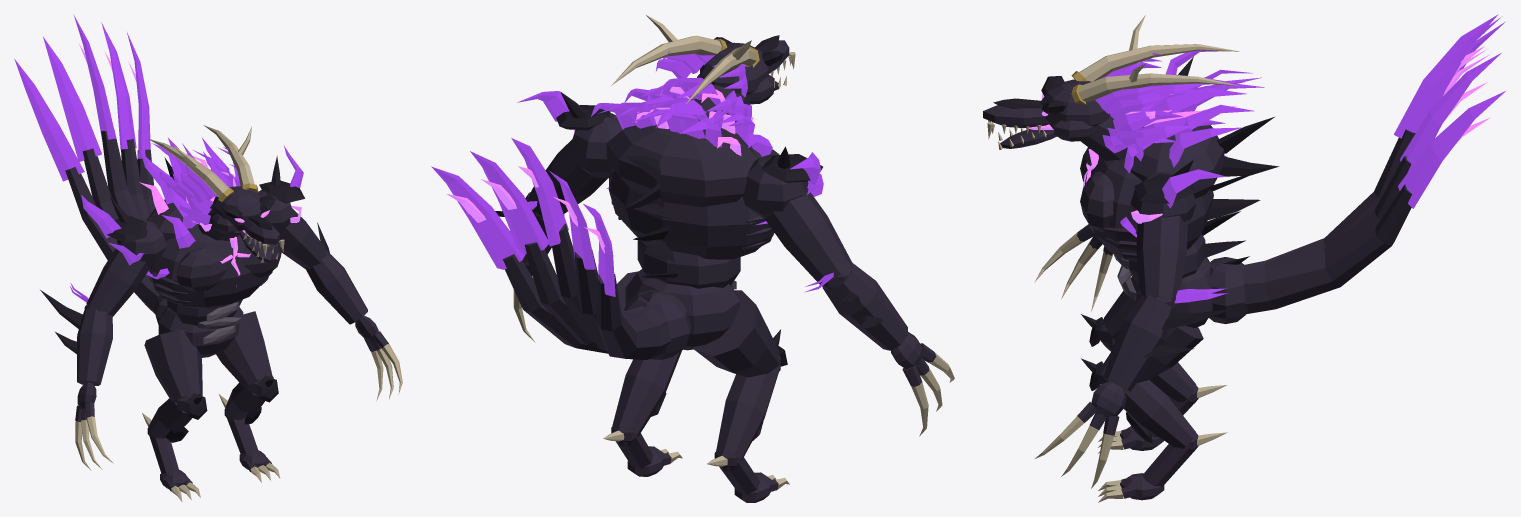
Rendered from shadow.glb.
3 views of the same model, side by side, from view 1: azimuth 30°, elevation 25°; view 2: azimuth 150°, elevation 25°; view 3: azimuth 270°, elevation 25° (orthographic). The views are drawn at different scales.
Parts seen in each view (by area): view 1: ShadowMonster_Tails, ShadowMonster_Body, ShadowMonster_Arm_R, ShadowMonster_Leg_R, ShadowMonster_Leg_L, ShadowMonster_Mane, ShadowMonster_Arm_L, ShadowMonster_Head, ShadowMonster_Horns, ShadowMonster_Hand_R, ShadowMonster_Hand_L; view 2: ShadowMonster_Body, ShadowMonster_Tails, ShadowMonster_Arm_R, ShadowMonster_Leg_R, ShadowMonster_Mane, ShadowMonster_Leg_L, ShadowMonster_Arm_L, ShadowMonster_Head, ShadowMonster_Horns, ShadowMonster_Hand_R; view 3: ShadowMonster_Tails, ShadowMonster_Body, ShadowMonster_Arm_L, ShadowMonster_Mane, ShadowMonster_Leg_L, ShadowMonster_Head, ShadowMonster_Horns, ShadowMonster_Leg_R, ShadowMonster_Hand_L, ShadowMonster_Hand_R.
Boxes of the visible parts, left/top/right/bottom form: ShadowMonster_Tails: left=14, top=14, right=167, bottom=324; ShadowMonster_Body: left=147, top=157, right=281, bottom=357; ShadowMonster_Arm_R: left=40, top=197, right=166, bottom=385; ShadowMonster_Leg_R: left=142, top=329, right=207, bottom=502; ShadowMonster_Leg_L: left=216, top=311, right=280, bottom=482; ShadowMonster_Mane: left=81, top=138, right=303, bottom=279; ShadowMonster_Arm_L: left=257, top=155, right=367, bottom=324; ShadowMonster_Head: left=181, top=147, right=284, bottom=262; ShadowMonster_Horns: left=148, top=125, right=258, bottom=201; ShadowMonster_Hand_R: left=75, top=382, right=113, bottom=470; ShadowMonster_Hand_L: left=355, top=315, right=402, bottom=400; ShadowMonster_Body: left=606, top=84, right=779, bottom=350; ShadowMonster_Tails: left=431, top=138, right=691, bottom=359; ShadowMonster_Arm_R: left=742, top=146, right=907, bottom=350; ShadowMonster_Leg_R: left=693, top=290, right=789, bottom=502; ShadowMonster_Mane: left=517, top=77, right=823, bottom=225; ShadowMonster_Leg_L: left=603, top=271, right=682, bottom=476; ShadowMonster_Arm_L: left=495, top=91, right=622, bottom=262; ShadowMonster_Head: left=656, top=35, right=795, bottom=104; ShadowMonster_Horns: left=610, top=14, right=759, bottom=103; ShadowMonster_Hand_R: left=891, top=332, right=954, bottom=436; ShadowMonster_Tails: left=1209, top=14, right=1505, bottom=324; ShadowMonster_Body: left=1080, top=114, right=1279, bottom=327; ShadowMonster_Arm_L: left=1103, top=160, right=1231, bottom=391; ShadowMonster_Mane: left=1102, top=50, right=1264, bottom=237; ShadowMonster_Leg_L: left=1081, top=325, right=1227, bottom=502; ShadowMonster_Head: left=983, top=53, right=1162, bottom=149; ShadowMonster_Horns: left=1071, top=15, right=1239, bottom=104; ShadowMonster_Leg_R: left=1081, top=291, right=1226, bottom=453; ShadowMonster_Hand_L: left=1035, top=381, right=1126, bottom=488; ShadowMonster_Hand_R: left=1034, top=224, right=1113, bottom=311.
Bounding box in the file's own units: 2.33 × 2.61 × 2.7.
